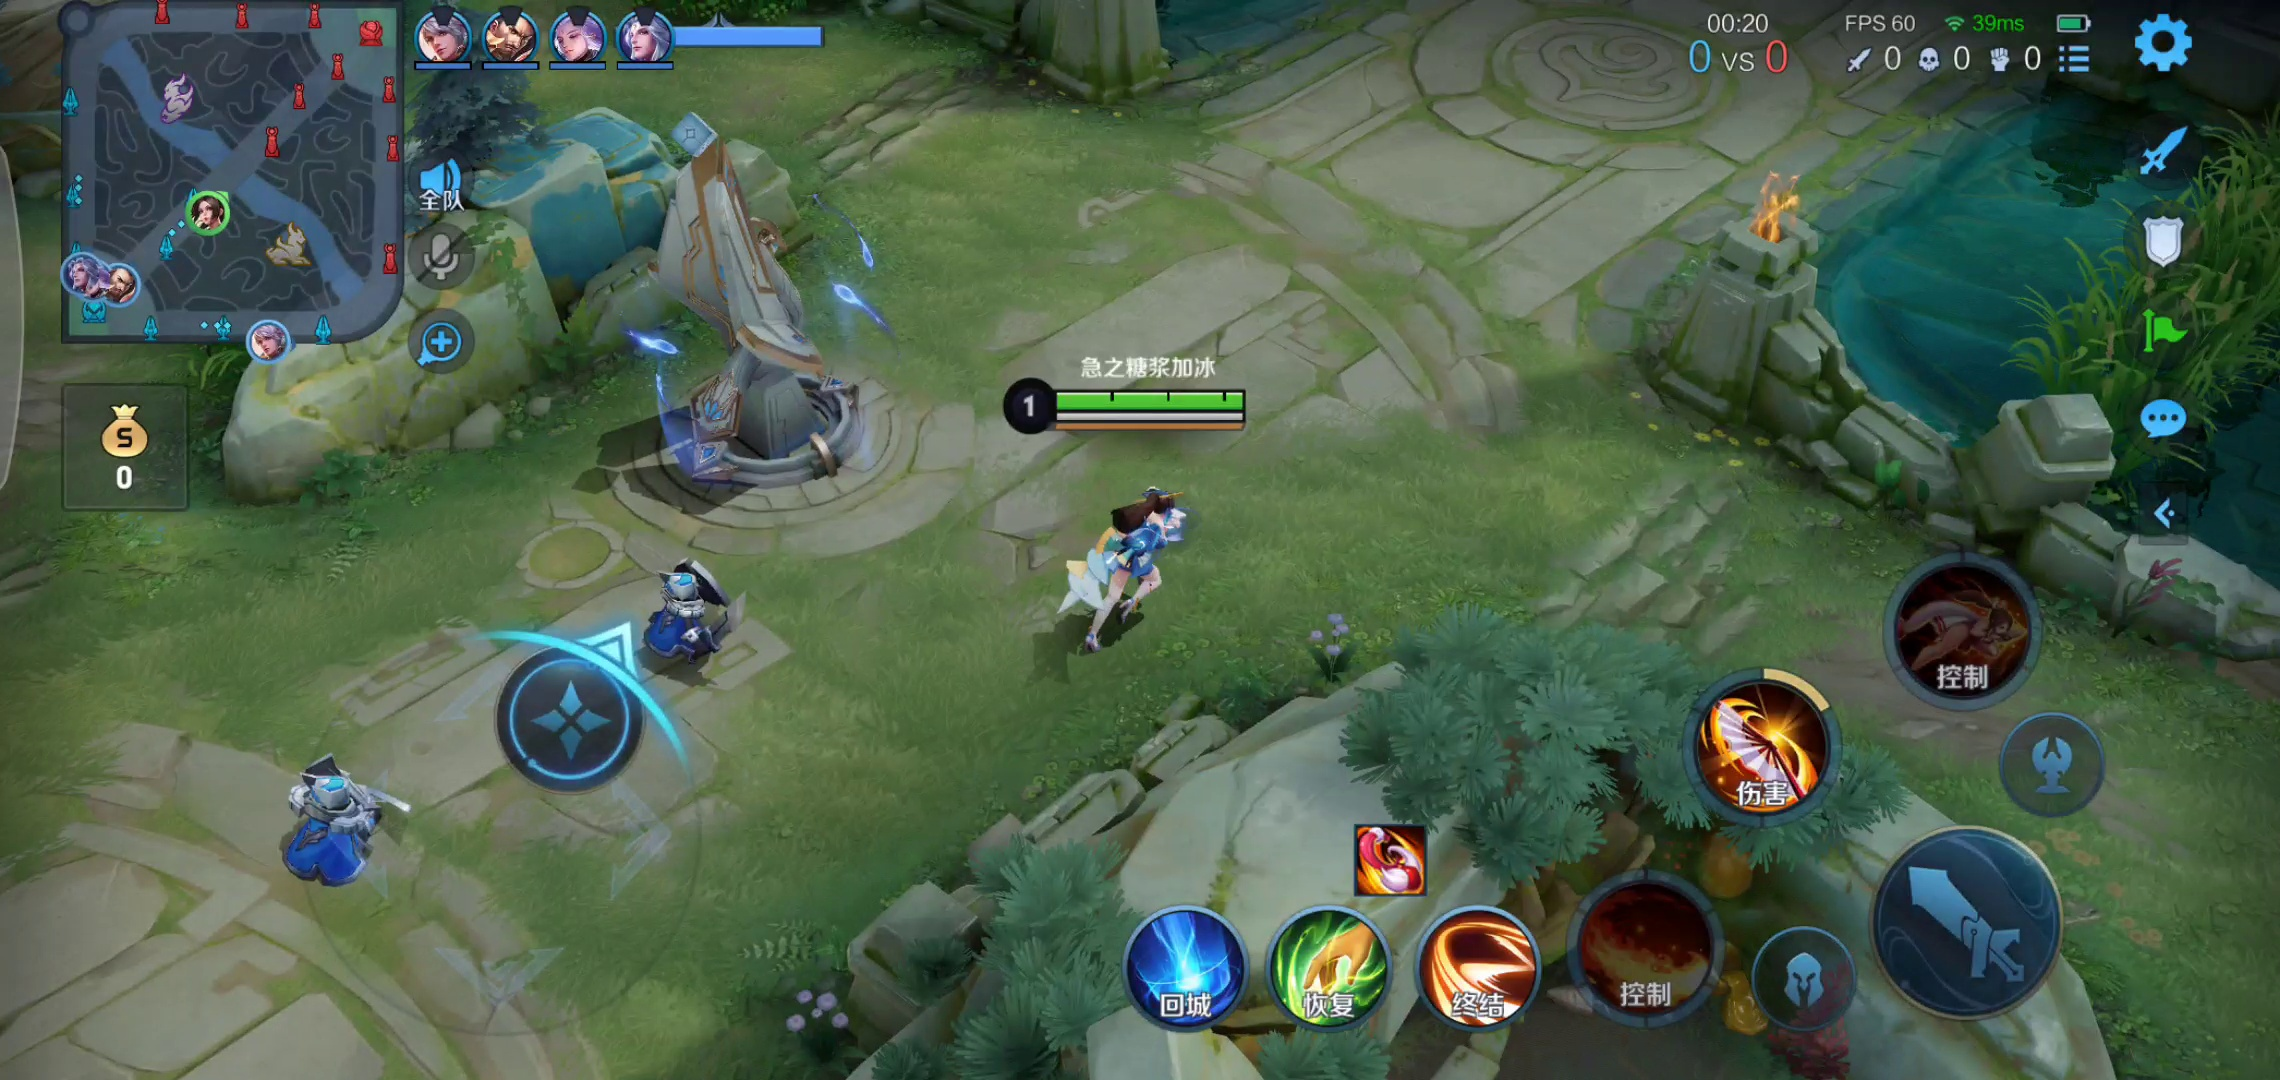grass: (2028, 109, 2263, 528)
hero: (1048, 470, 1197, 651)
soldier: (273, 756, 397, 901), (622, 563, 758, 676)
tower: (617, 142, 899, 496)
